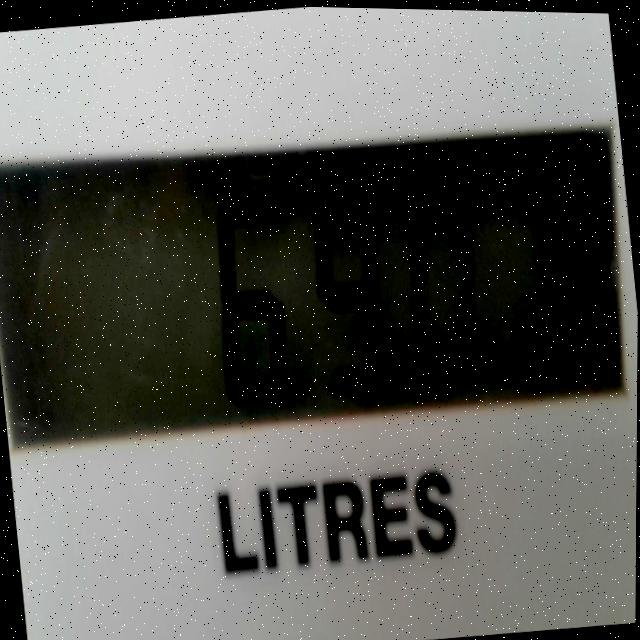.: (390, 357, 406, 385)
0: (402, 183, 489, 376)
1: (535, 171, 589, 374)
6: (209, 199, 298, 398)
8: (310, 190, 393, 392)
